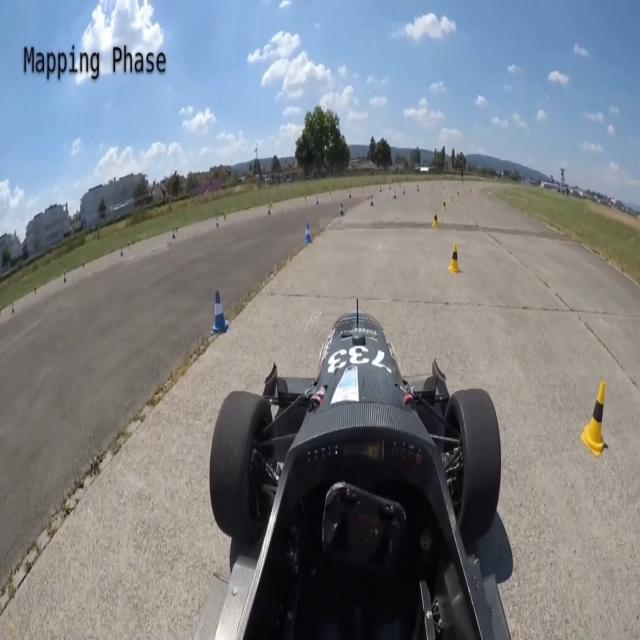blue_cone: (210, 287, 232, 338), (302, 220, 314, 247), (338, 202, 345, 217), (370, 196, 374, 207)
yellow_cone: (578, 376, 607, 456), (446, 240, 463, 276), (431, 211, 439, 229), (442, 201, 447, 212)
